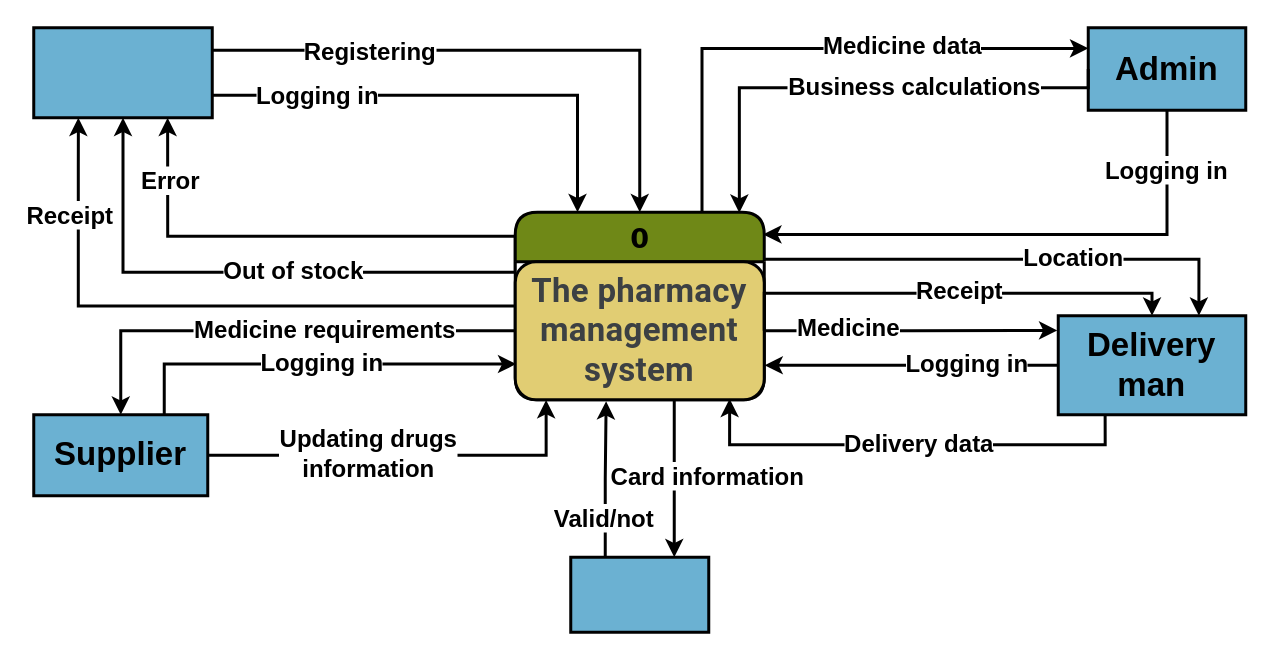
Some shapes in this 1274 by 659 pixel diagram are drawn without their labels. The centre of each missing label's shape, as x and y in pixels:
"Bank" goes at pixel 639 594.
"Customer" goes at pixel 122 72.
